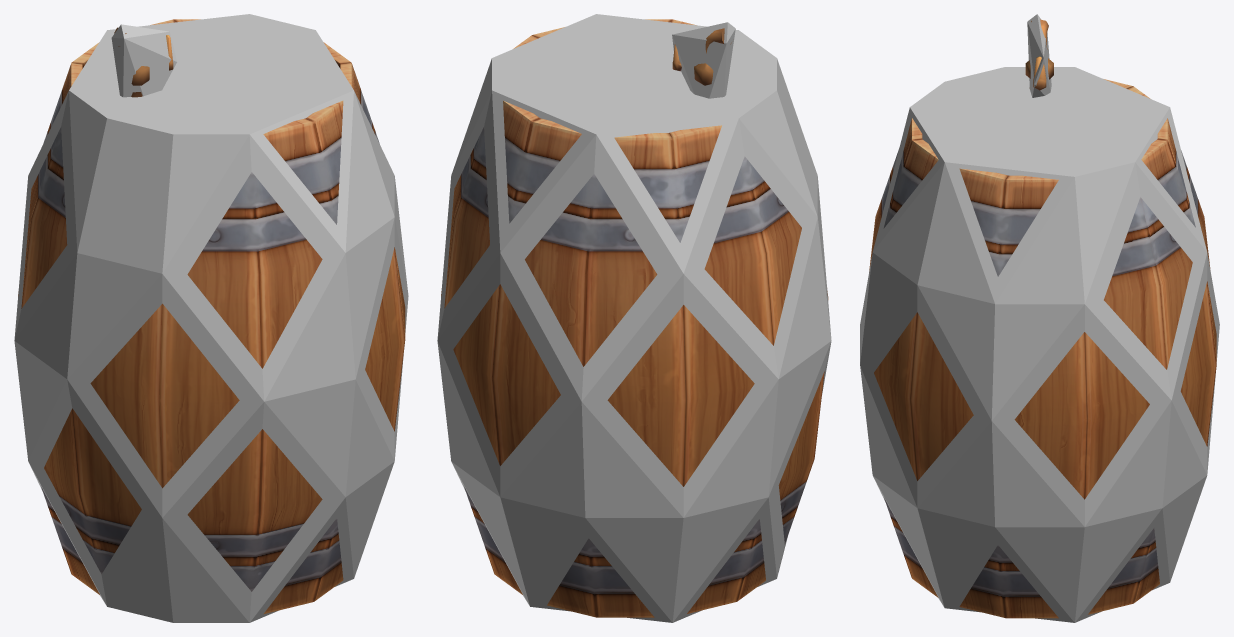
File: SM_BarrelWooden01_2.fbx
3 renders of one model, left to right at view 1: azimuth 30°, elevation 25°; view 2: azimuth 150°, elevation 25°; view 3: azimuth 270°, elevation 25°, orthographic. The views are drawn at different scales.
Visible parts, largest first — view 1: SM_BarrelWooden01_2_ConvexHulls, SM_BarrelWooden01_2; view 2: SM_BarrelWooden01_2_ConvexHulls, SM_BarrelWooden01_2; view 3: SM_BarrelWooden01_2_ConvexHulls, SM_BarrelWooden01_2.
Boxes of the visible parts, <box> form: SM_BarrelWooden01_2_ConvexHulls: <box>14,14,408,622</box>; SM_BarrelWooden01_2: <box>18,19,405,614</box>; SM_BarrelWooden01_2_ConvexHulls: <box>437,14,831,622</box>; SM_BarrelWooden01_2: <box>441,19,828,617</box>; SM_BarrelWooden01_2_ConvexHulls: <box>860,14,1219,622</box>; SM_BarrelWooden01_2: <box>869,19,1216,618</box>.
Size of the model in its own units: 73.79 by 73.79 by 116.
Materials: 2 (1 with a texture image).
